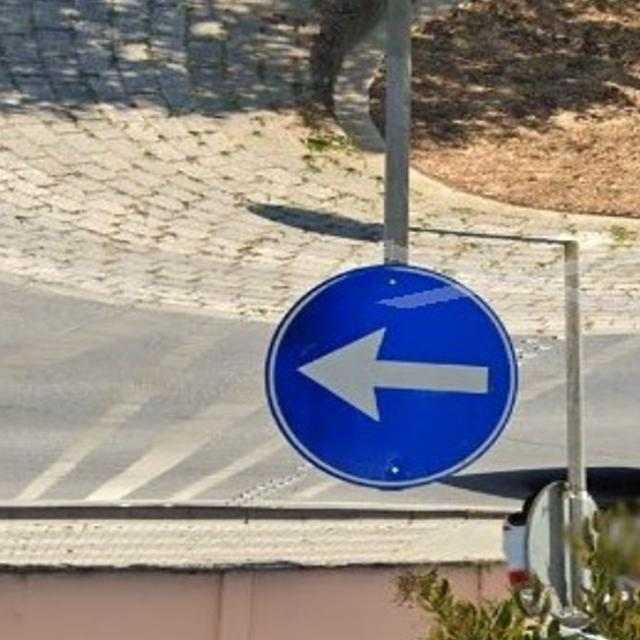Turn Left: (269, 259, 518, 509)
